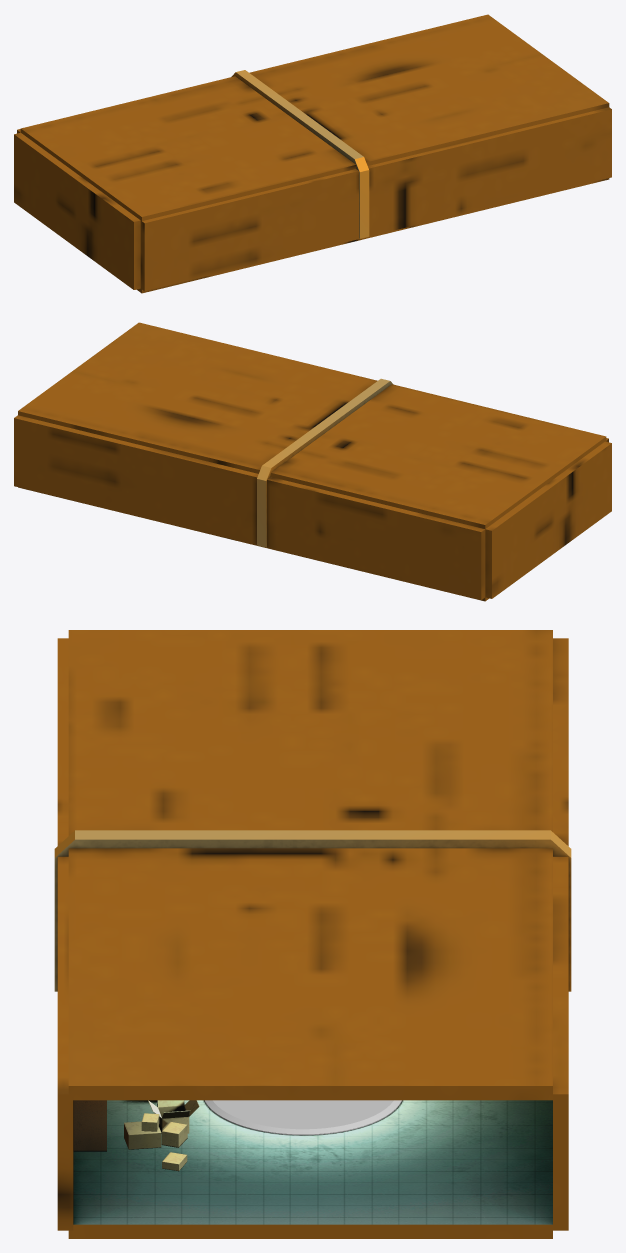
Rendered from garage 2.FBX.
3 views of the same model, one above another, from view 1: azimuth 30°, elevation 25°; view 2: azimuth 150°, elevation 25°; view 3: azimuth 270°, elevation 25° (orthographic). The views are drawn at different scales.
Parts seen in each view (by area): view 1: walls; view 2: walls; view 3: walls, stand, props.
Boxes of the visible parts, box(x1,y1,x2,y2) form: walls: box(14, 14, 611, 293); walls: box(14, 322, 611, 601); walls: box(54, 630, 571, 1238); stand: box(204, 1100, 401, 1135); props: box(73, 1100, 199, 1171).
Bounding box in the file's own units: 447 × 72.76 × 211.
